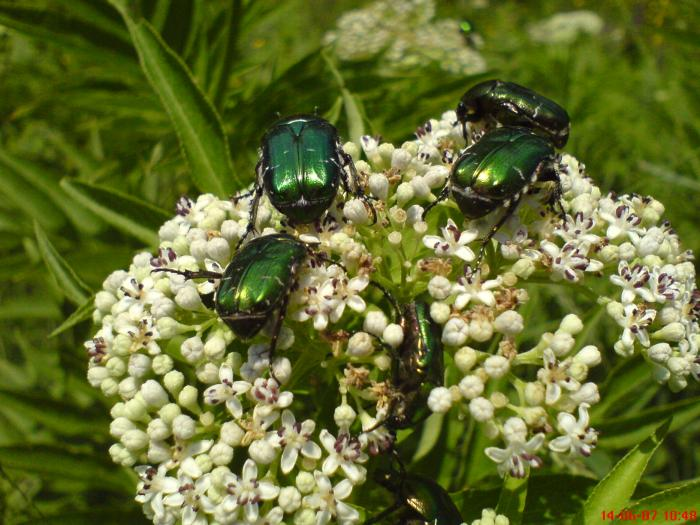Cetonia_aurata: (441, 114, 566, 221), (202, 229, 311, 351), (253, 102, 351, 236), (444, 71, 584, 148)
